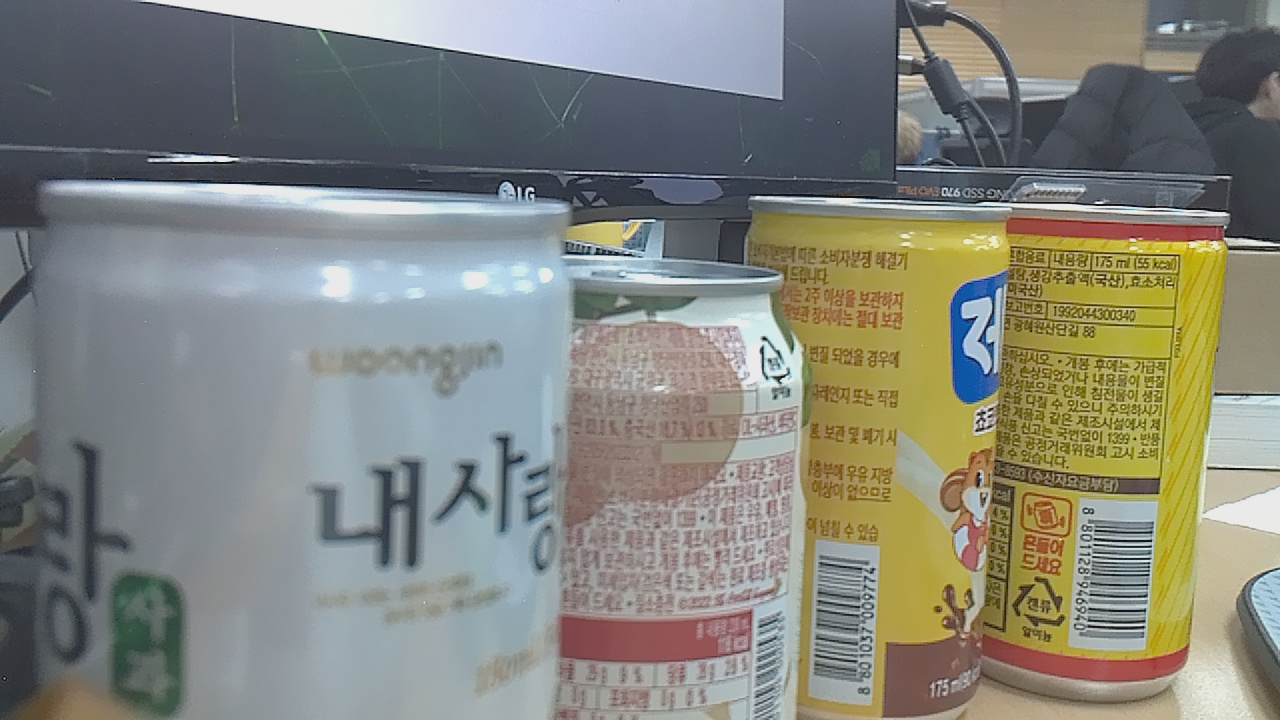IdH (pear juice): (577, 252, 795, 720)
jetty: (810, 206, 1001, 714)
mylove apple: (30, 168, 572, 720)
paldo shikhye: (1020, 203, 1212, 699)
